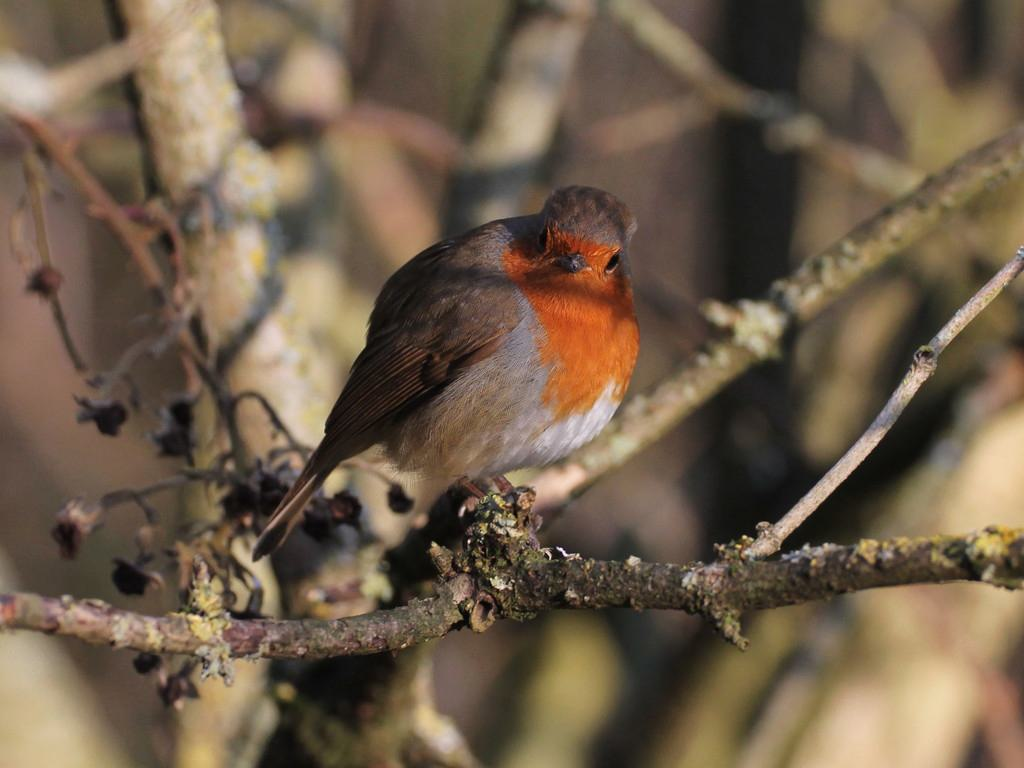ErithacusRubecula: (251, 185, 637, 562)
